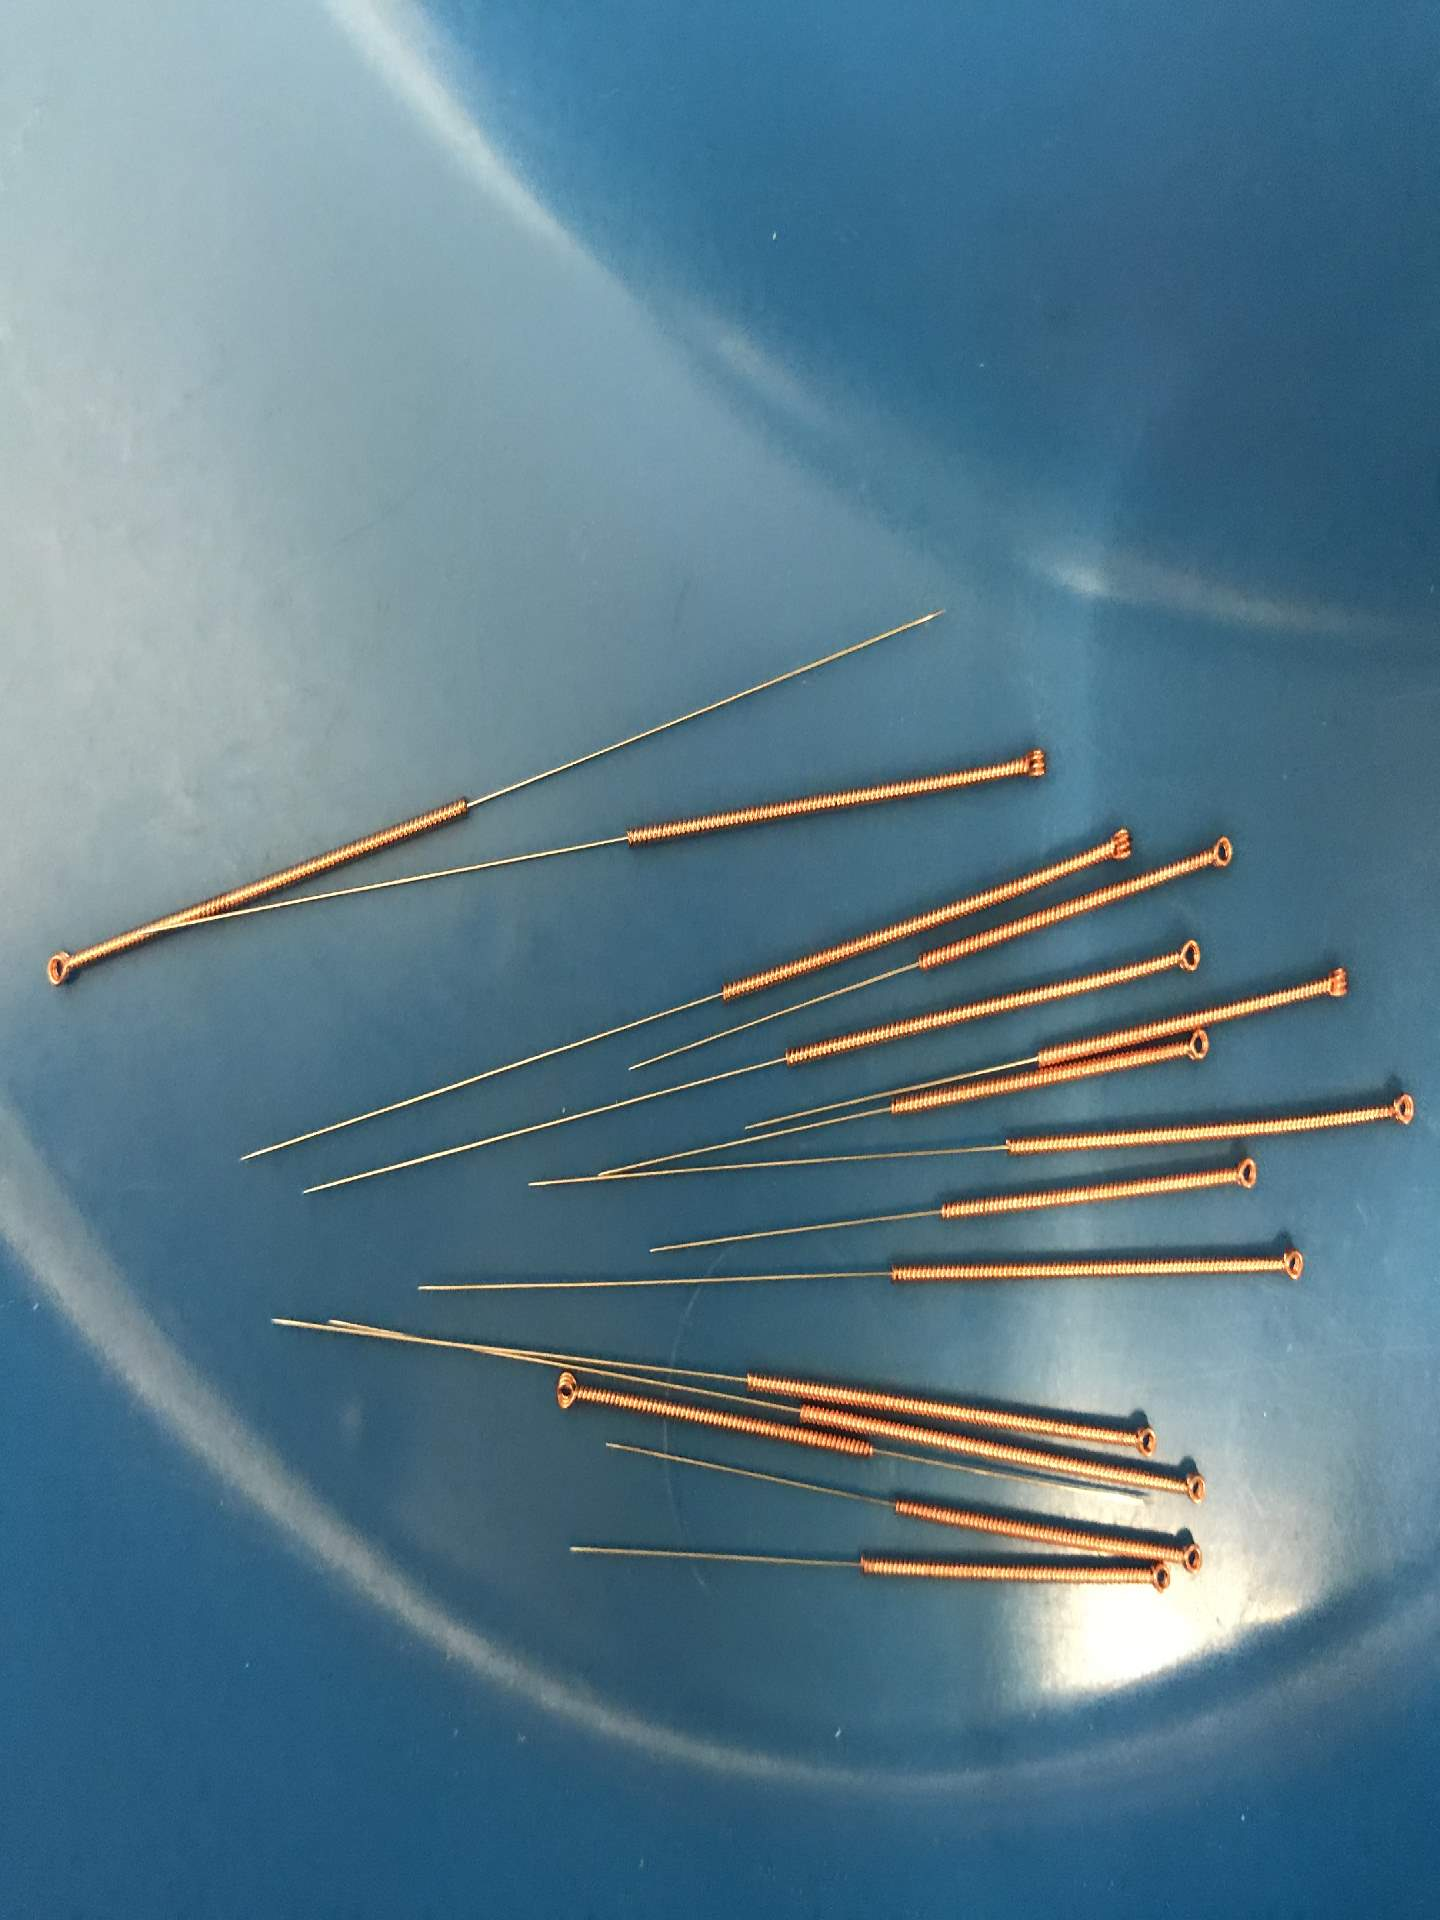needle: (33, 933, 91, 1001), (535, 1367, 597, 1423), (1088, 816, 1142, 875), (1192, 825, 1243, 884), (1166, 1460, 1221, 1515), (1308, 955, 1361, 1011), (1007, 735, 1057, 792), (1218, 1150, 1269, 1202), (1266, 1237, 1314, 1290), (1162, 928, 1209, 983), (1376, 1082, 1423, 1137), (1172, 1022, 1224, 1070), (1131, 1551, 1178, 1603), (1118, 1414, 1166, 1460), (1171, 1534, 1215, 1583)
